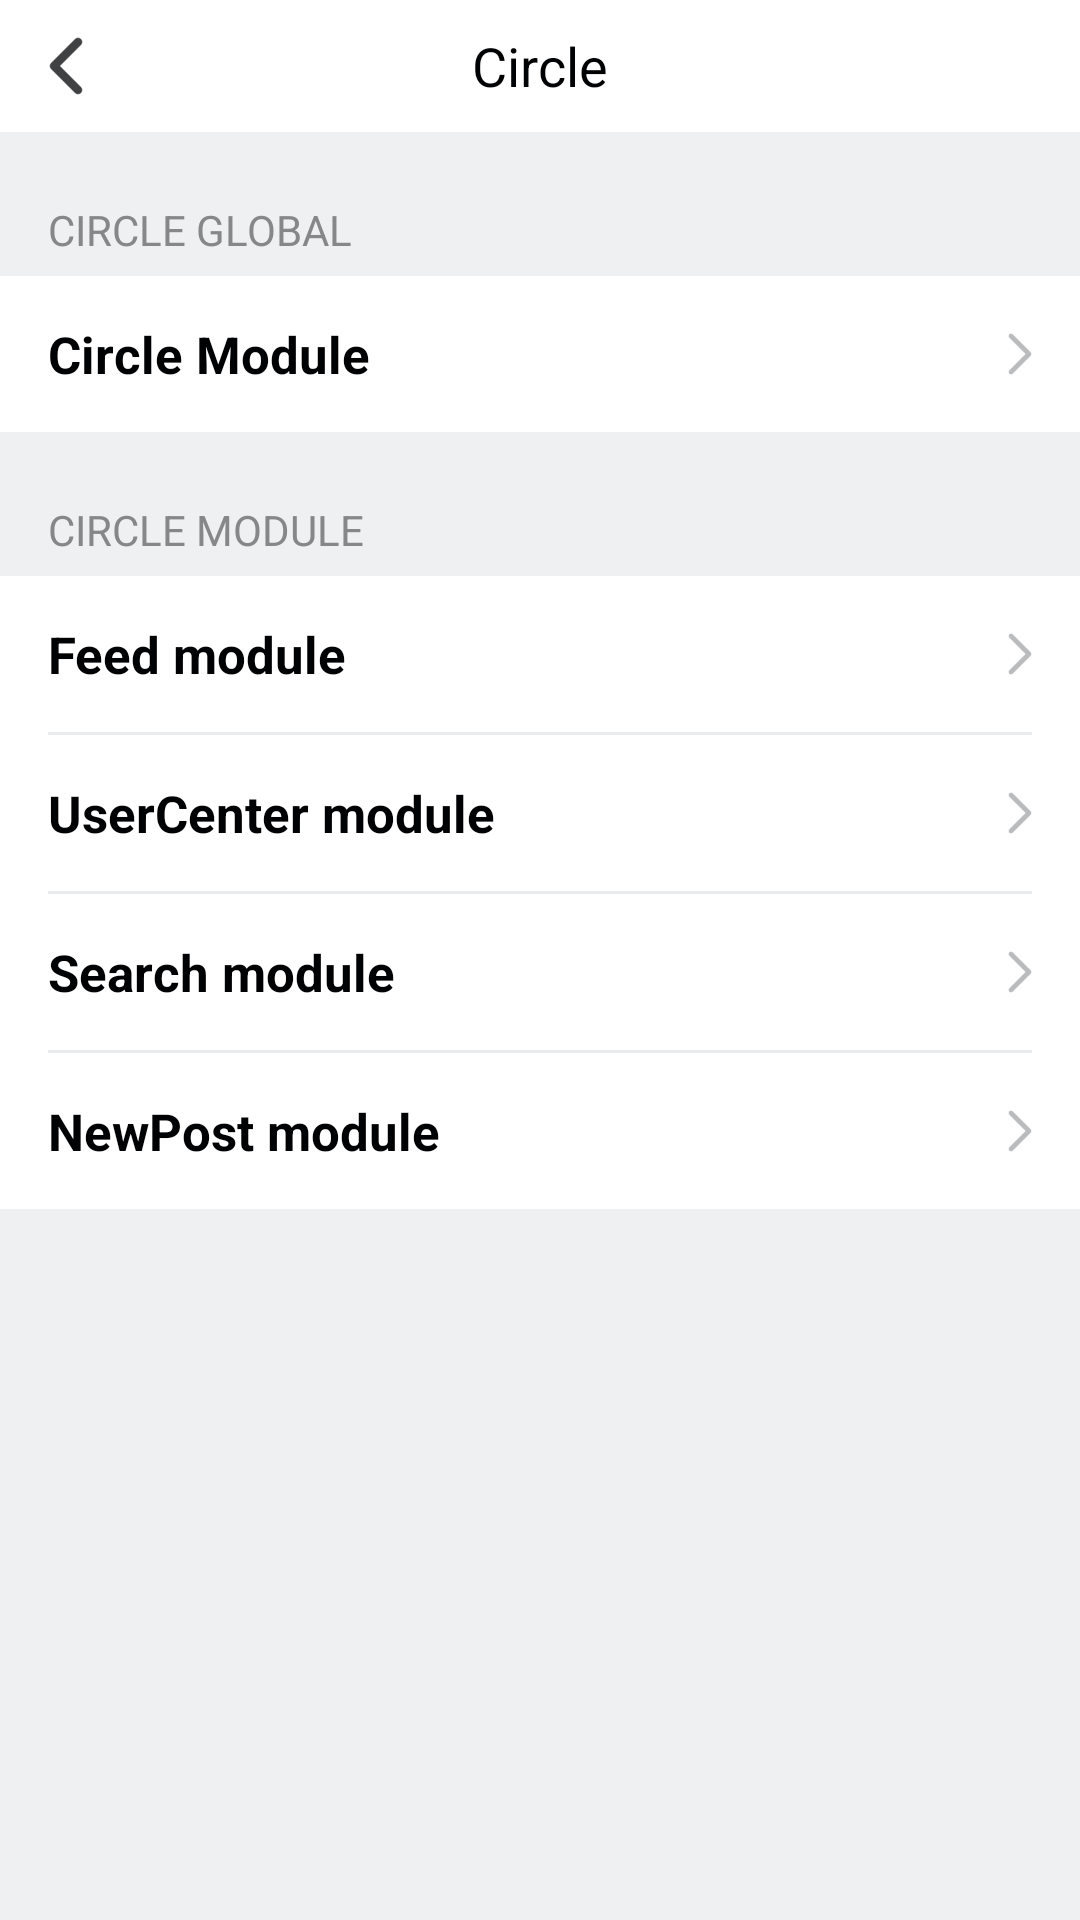

Icons on this 1080 x 1920 Android screen, each with the point to tap as (x,y):
back: (66,66)
